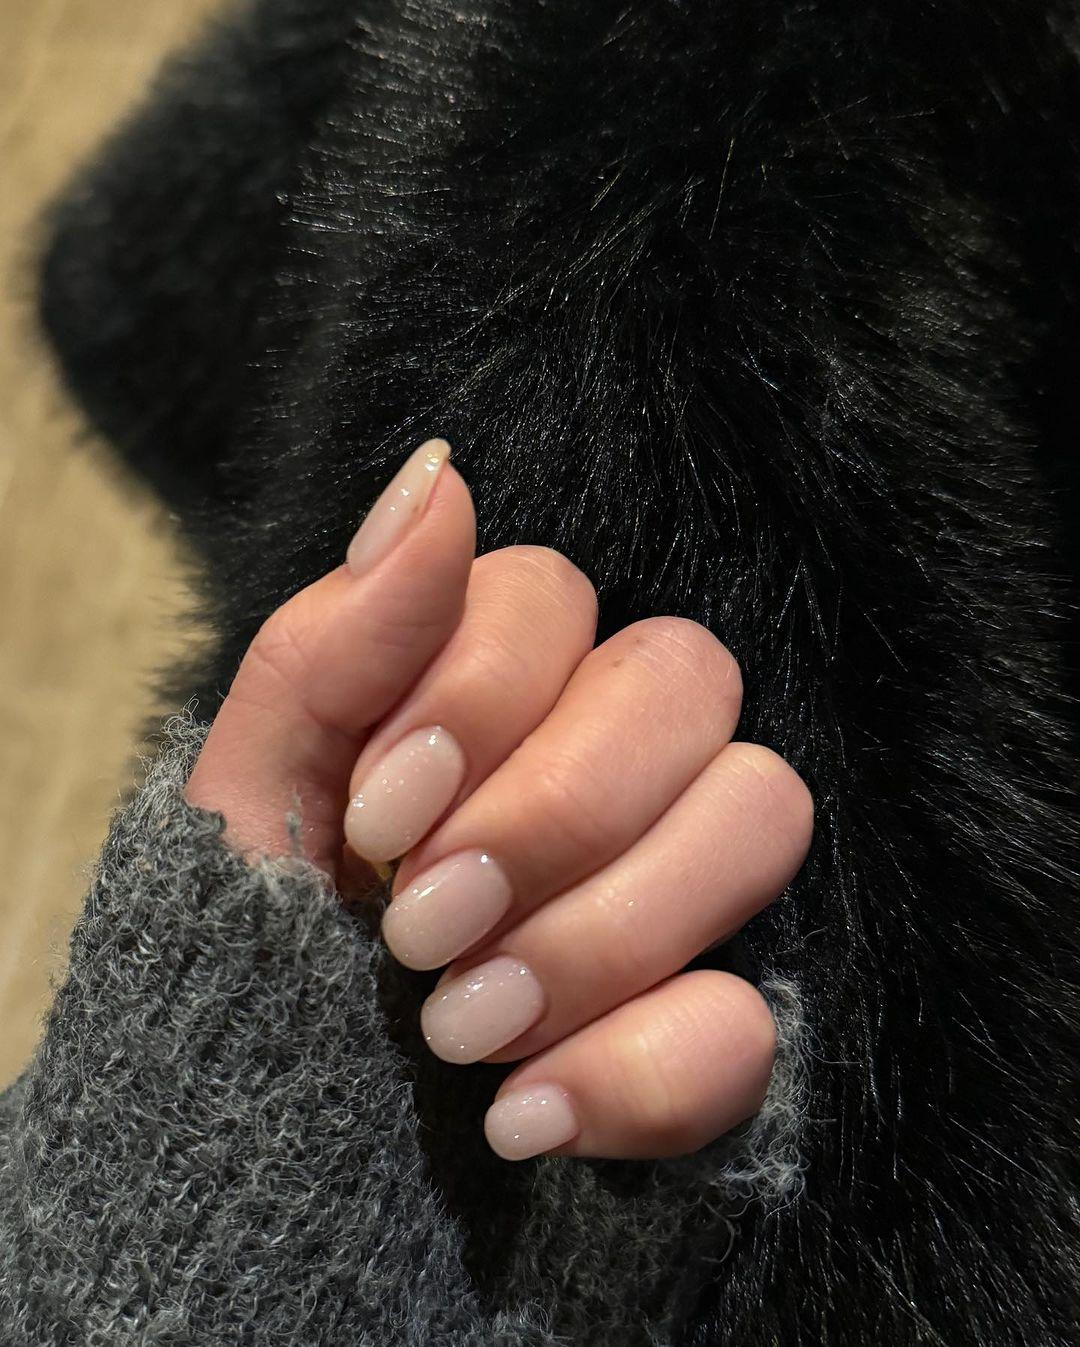nail: (379, 612, 744, 972), (419, 738, 814, 1067), (341, 541, 598, 866), (481, 967, 778, 1163), (341, 722, 467, 863), (379, 844, 513, 971), (343, 435, 452, 577), (418, 952, 547, 1065), (482, 1078, 579, 1162)
